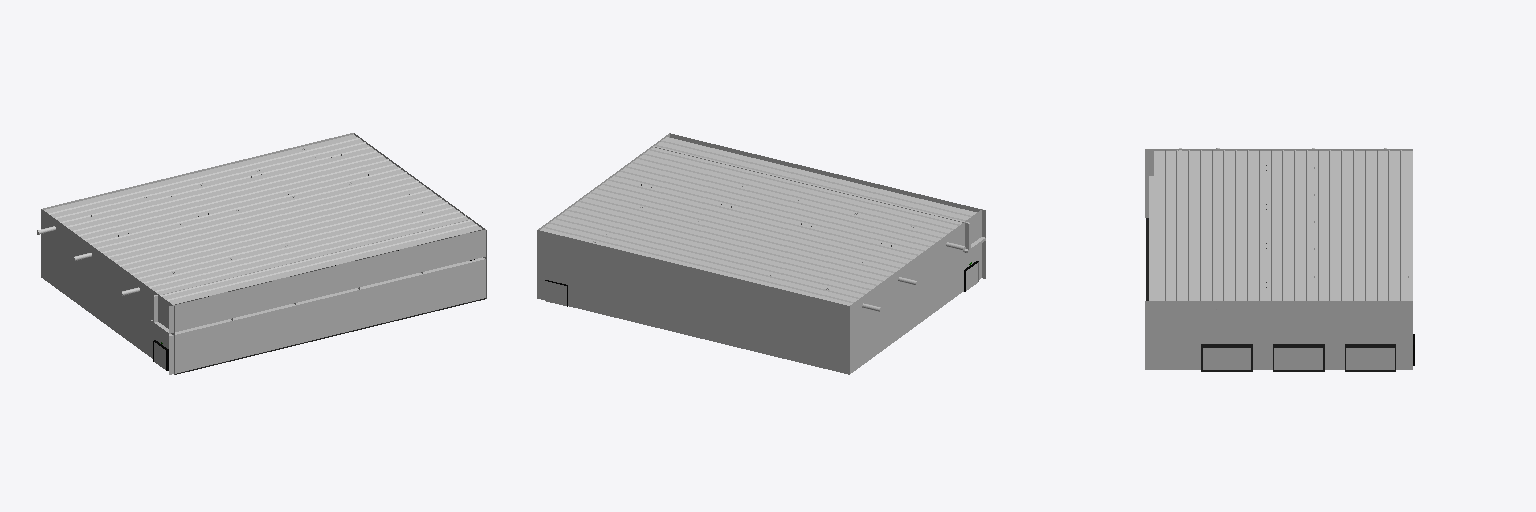
The model's file is room_190927.obj.
The picture shows the model from 3 angles: view 1: azimuth 30°, elevation 25°; view 2: azimuth 150°, elevation 25°; view 3: azimuth 270°, elevation 25°; orthographic projection.
Parts seen in each view (by area): view 1: Plane.001, Plane.002, Plane; view 2: Plane.001, Plane, Plane.002; view 3: Plane.001, Plane, Cube.002, Plane.002.
Part boxes in pixels (x1,y1,x2,y2): Plane.001: (44, 134, 481, 304); Plane.002: (151, 219, 485, 374); Plane: (41, 133, 486, 374); Plane.001: (540, 137, 976, 305); Plane: (537, 133, 982, 374); Plane.002: (653, 133, 985, 278); Plane.001: (1154, 150, 1412, 300); Plane: (1145, 149, 1412, 369); Cube.002: (1201, 344, 1395, 371); Plane.002: (1149, 148, 1184, 331).
Size of the model in its own units: 52.97 by 10.61 by 37.29.